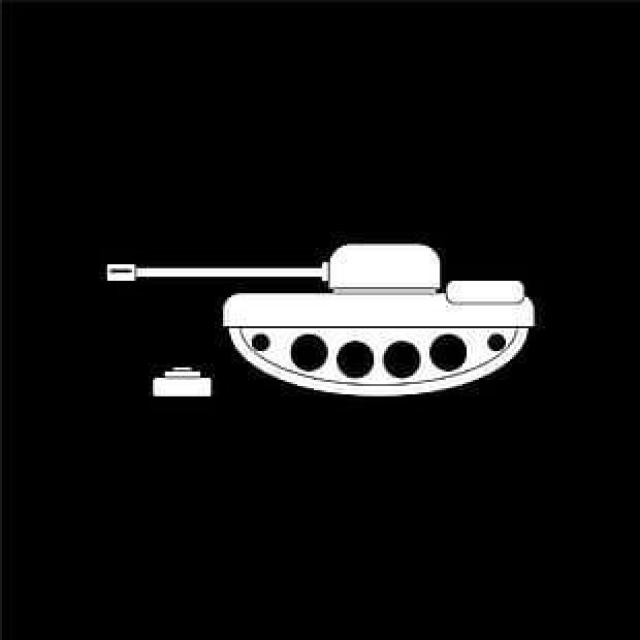Tanks: (95, 212, 539, 410)
